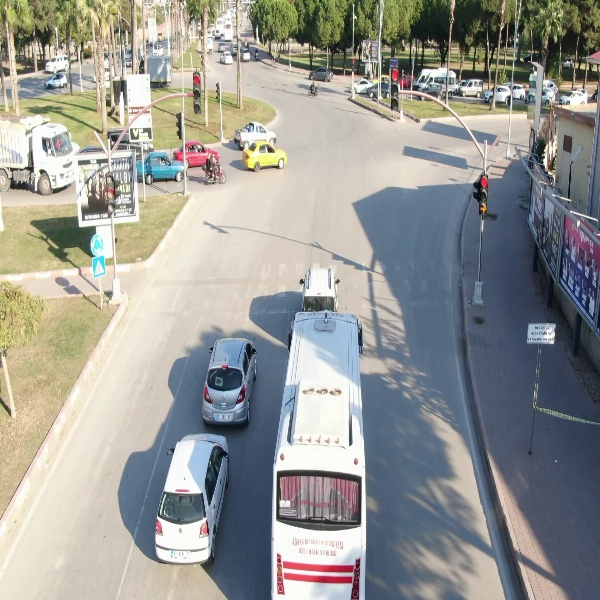car: (151, 432, 229, 565), (198, 337, 260, 432), (240, 140, 287, 172), (458, 76, 486, 97), (40, 72, 70, 91), (559, 88, 589, 105), (307, 66, 335, 83), (218, 49, 237, 66)
